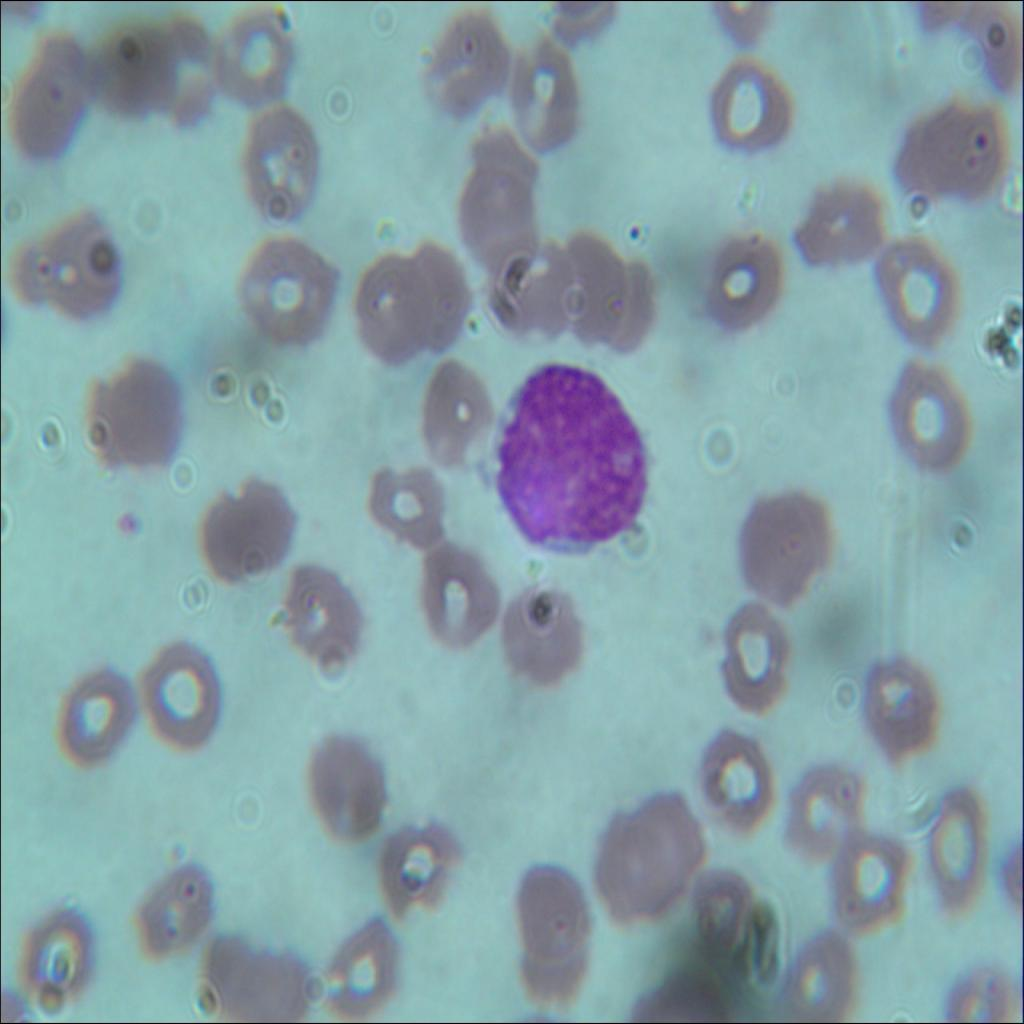Eritrosit: (686, 218, 791, 344), (728, 470, 826, 598), (895, 102, 1008, 212), (489, 221, 579, 355), (231, 95, 324, 224), (235, 231, 334, 352), (196, 474, 296, 588), (688, 717, 775, 848), (296, 724, 390, 845), (788, 162, 882, 281), (274, 550, 360, 680), (882, 354, 971, 479), (516, 865, 598, 997), (94, 348, 179, 474), (358, 451, 456, 557), (134, 4, 216, 128), (398, 232, 478, 358), (208, 14, 306, 115), (304, 918, 404, 1016), (36, 212, 130, 314), (550, 227, 629, 348), (706, 56, 796, 162), (6, 38, 89, 152), (773, 754, 863, 858), (424, 17, 513, 121), (90, 21, 176, 128), (496, 583, 584, 687), (411, 354, 496, 461), (58, 663, 144, 767), (636, 774, 703, 906), (860, 660, 938, 772), (412, 537, 498, 638), (712, 605, 786, 722), (512, 44, 586, 161), (878, 242, 958, 349), (136, 641, 221, 741), (921, 785, 990, 908), (356, 251, 435, 358), (456, 172, 536, 272), (681, 847, 751, 958), (833, 815, 899, 931), (135, 852, 209, 954), (781, 925, 858, 1023), (21, 906, 99, 1002), (595, 812, 668, 914), (379, 814, 455, 905), (464, 122, 535, 214), (219, 954, 308, 1023), (598, 257, 658, 352)
Limfoblast: (488, 360, 661, 552)
Platelet: (108, 498, 148, 558), (964, 114, 994, 164), (621, 210, 648, 252)
